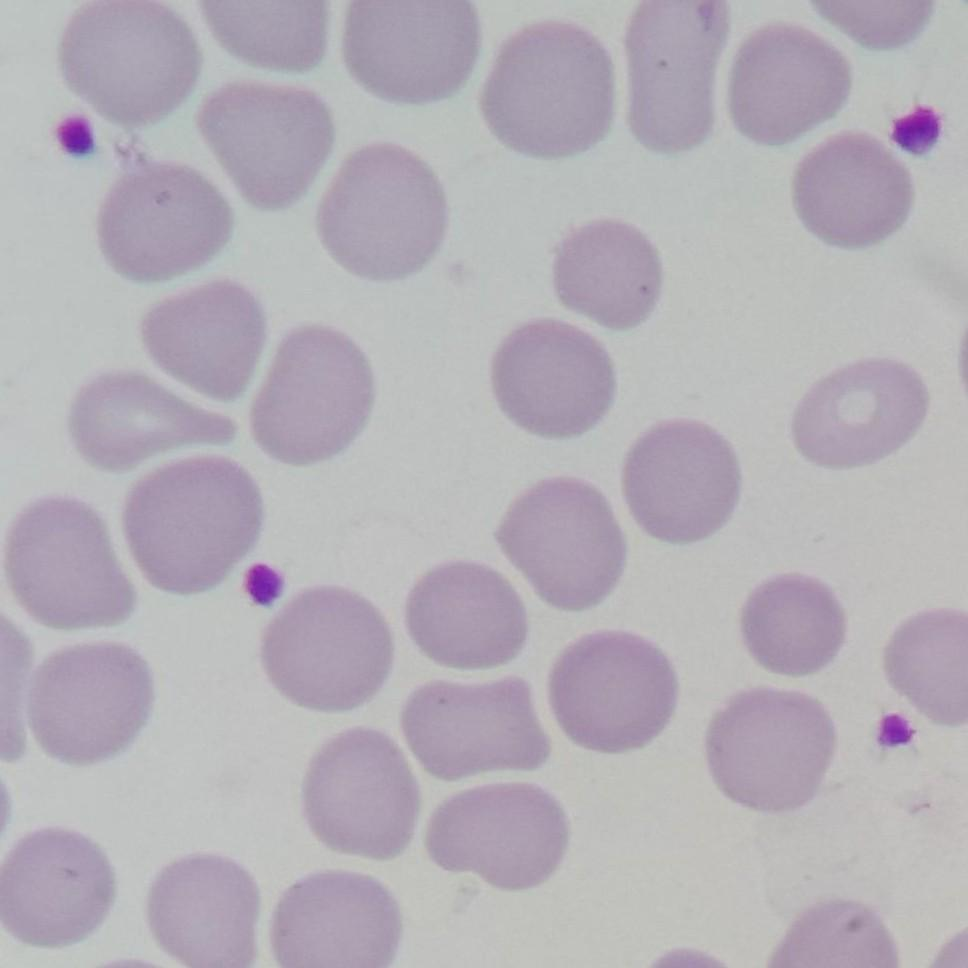Uninfected: (370, 121, 511, 261), (808, 482, 942, 619), (685, 317, 822, 449), (500, 249, 641, 375), (357, 495, 492, 626), (335, 5, 470, 135), (759, 196, 884, 336), (843, 58, 966, 198), (154, 705, 282, 839), (257, 262, 386, 394), (76, 426, 188, 572), (212, 548, 335, 680), (496, 70, 597, 230), (186, 401, 295, 549), (686, 98, 809, 229), (202, 27, 327, 153), (816, 625, 965, 730), (497, 791, 612, 927), (528, 491, 651, 617), (565, 141, 687, 268), (108, 301, 239, 419), (422, 622, 546, 741), (823, 728, 940, 852), (863, 342, 968, 479), (716, 793, 832, 912), (295, 406, 408, 528), (20, 0, 138, 115), (0, 147, 114, 263), (0, 270, 99, 400), (637, 553, 750, 665), (290, 739, 396, 847), (898, 191, 967, 332)
